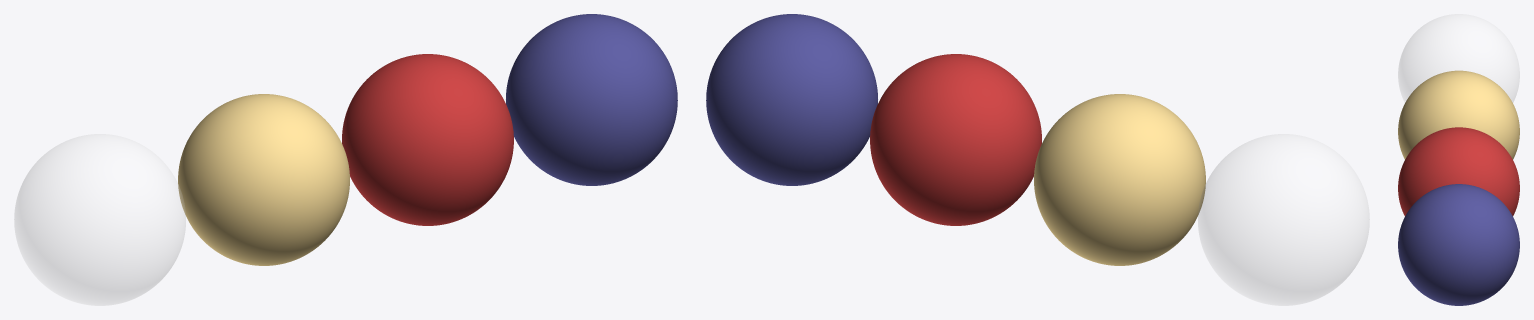
File: spheres.gltf
3 views of the same model, side by side, from view 1: azimuth 30°, elevation 25°; view 2: azimuth 150°, elevation 25°; view 3: azimuth 270°, elevation 25° (orthographic). The views are drawn at different scales.
Parts seen in each view (by area): view 1: gold, sheen, clearcoat, glass; view 2: gold, sheen, clearcoat, glass; view 3: sheen, clearcoat, gold, glass.
Part boxes in pixels (x1,y1,x2,y2): gold: (178, 94, 349, 265); sheen: (506, 14, 677, 185); clearcoat: (342, 54, 513, 225); glass: (14, 134, 185, 305); gold: (1034, 94, 1205, 265); sheen: (706, 14, 877, 185); clearcoat: (870, 54, 1041, 225); glass: (1198, 134, 1369, 305); sheen: (1398, 184, 1519, 305); clearcoat: (1398, 127, 1519, 215); gold: (1398, 70, 1519, 159); glass: (1398, 14, 1519, 101).
Size of what is drawn, in the model's own units: 8.6 by 2 by 2.
